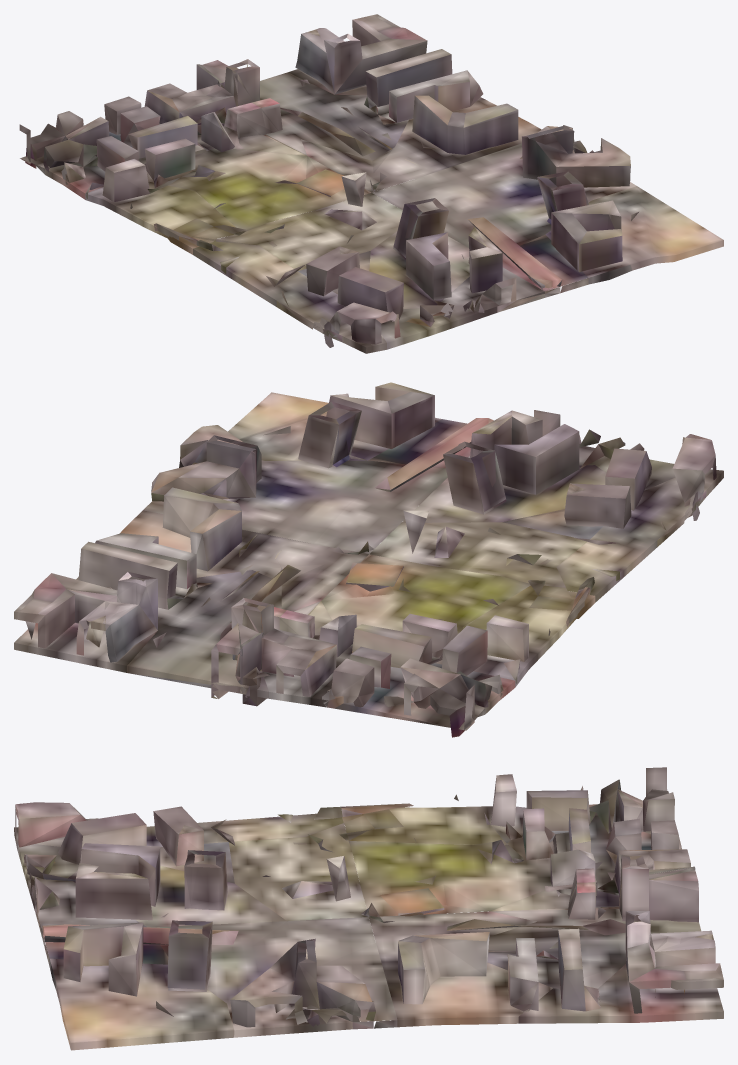
3 views of the same model, one above another, from view 1: azimuth 30°, elevation 25°; view 2: azimuth 150°, elevation 25°; view 3: azimuth 270°, elevation 25° (orthographic). The views are drawn at different scales.
Parts seen in each view (by area): view 1: Mesh_0; view 2: Mesh_0; view 3: Mesh_0.
Part boxes in pixels (x1=…): Mesh_0: x1=19, y1=14, x2=723, y2=353; Mesh_0: x1=14, y1=382, x2=723, y2=737; Mesh_0: x1=14, y1=767, x2=723, y2=1050.
Bounding box in the file's own units: 539 × 74.59 × 659.
Materials: 2 (2 with a texture image).
